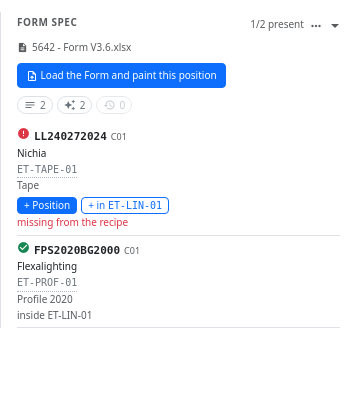
Scenario: FormSpecPane renders the Form beside the recipe › the Form's own columns are reference: behind the rail, not in your face
Expected: the text "Linear LED" is not shown
Click the button named "What the Form itself says about this position" at (35, 105), box [17,96,53,114]
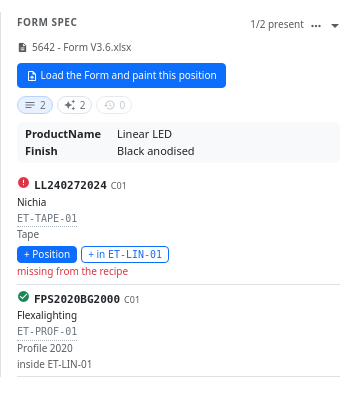
Expected: the text "ProductName" is shown, [25,126,109,142]
Expected: the text "Linear LED" is shown, [117,126,172,142]
Expected: the text "Black anodised" is shown, [117,142,195,159]
